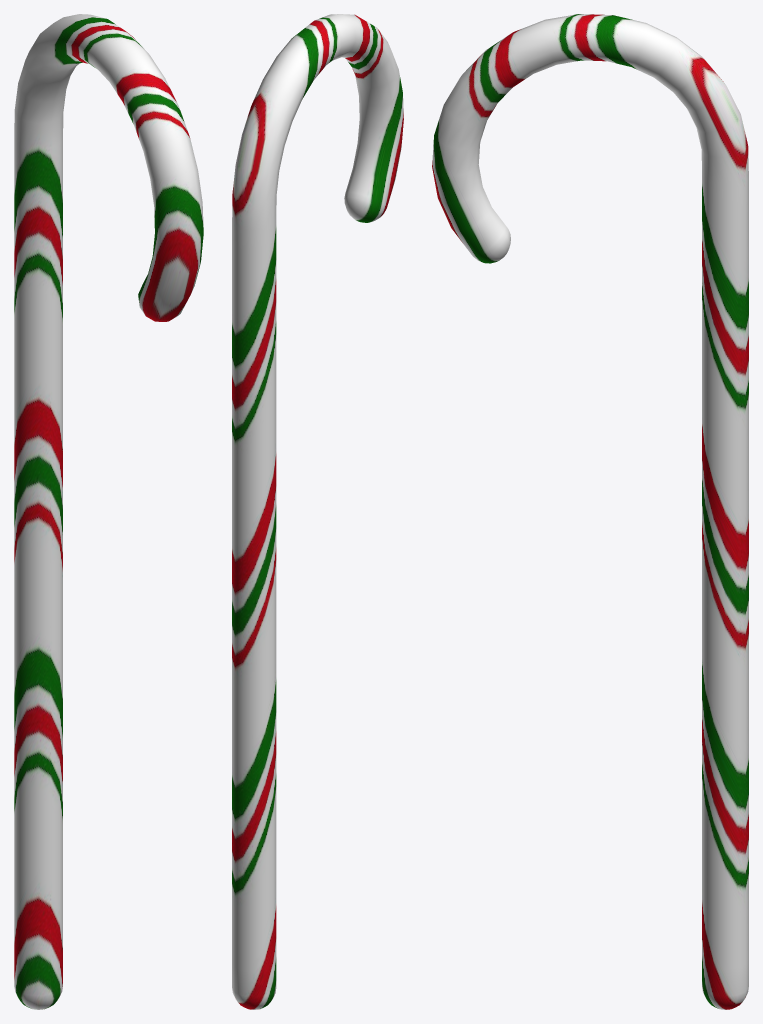
Rendered from Baston3.obj.
3 views of the same model, side by side, from view 1: azimuth 30°, elevation 25°; view 2: azimuth 150°, elevation 25°; view 3: azimuth 270°, elevation 25° (orthographic). The views are drawn at different scales.
Visible parts, largest first — view 1: CandyCane; view 2: CandyCane; view 3: CandyCane.
Part boxes in pixels (x1,y1,x2,y2): CandyCane: [14, 14, 203, 1009]; CandyCane: [232, 14, 403, 1009]; CandyCane: [432, 14, 748, 1009].
Size of the model in its own units: 0.2063 by 4.82 by 1.4.
1 material, 1 textured.
